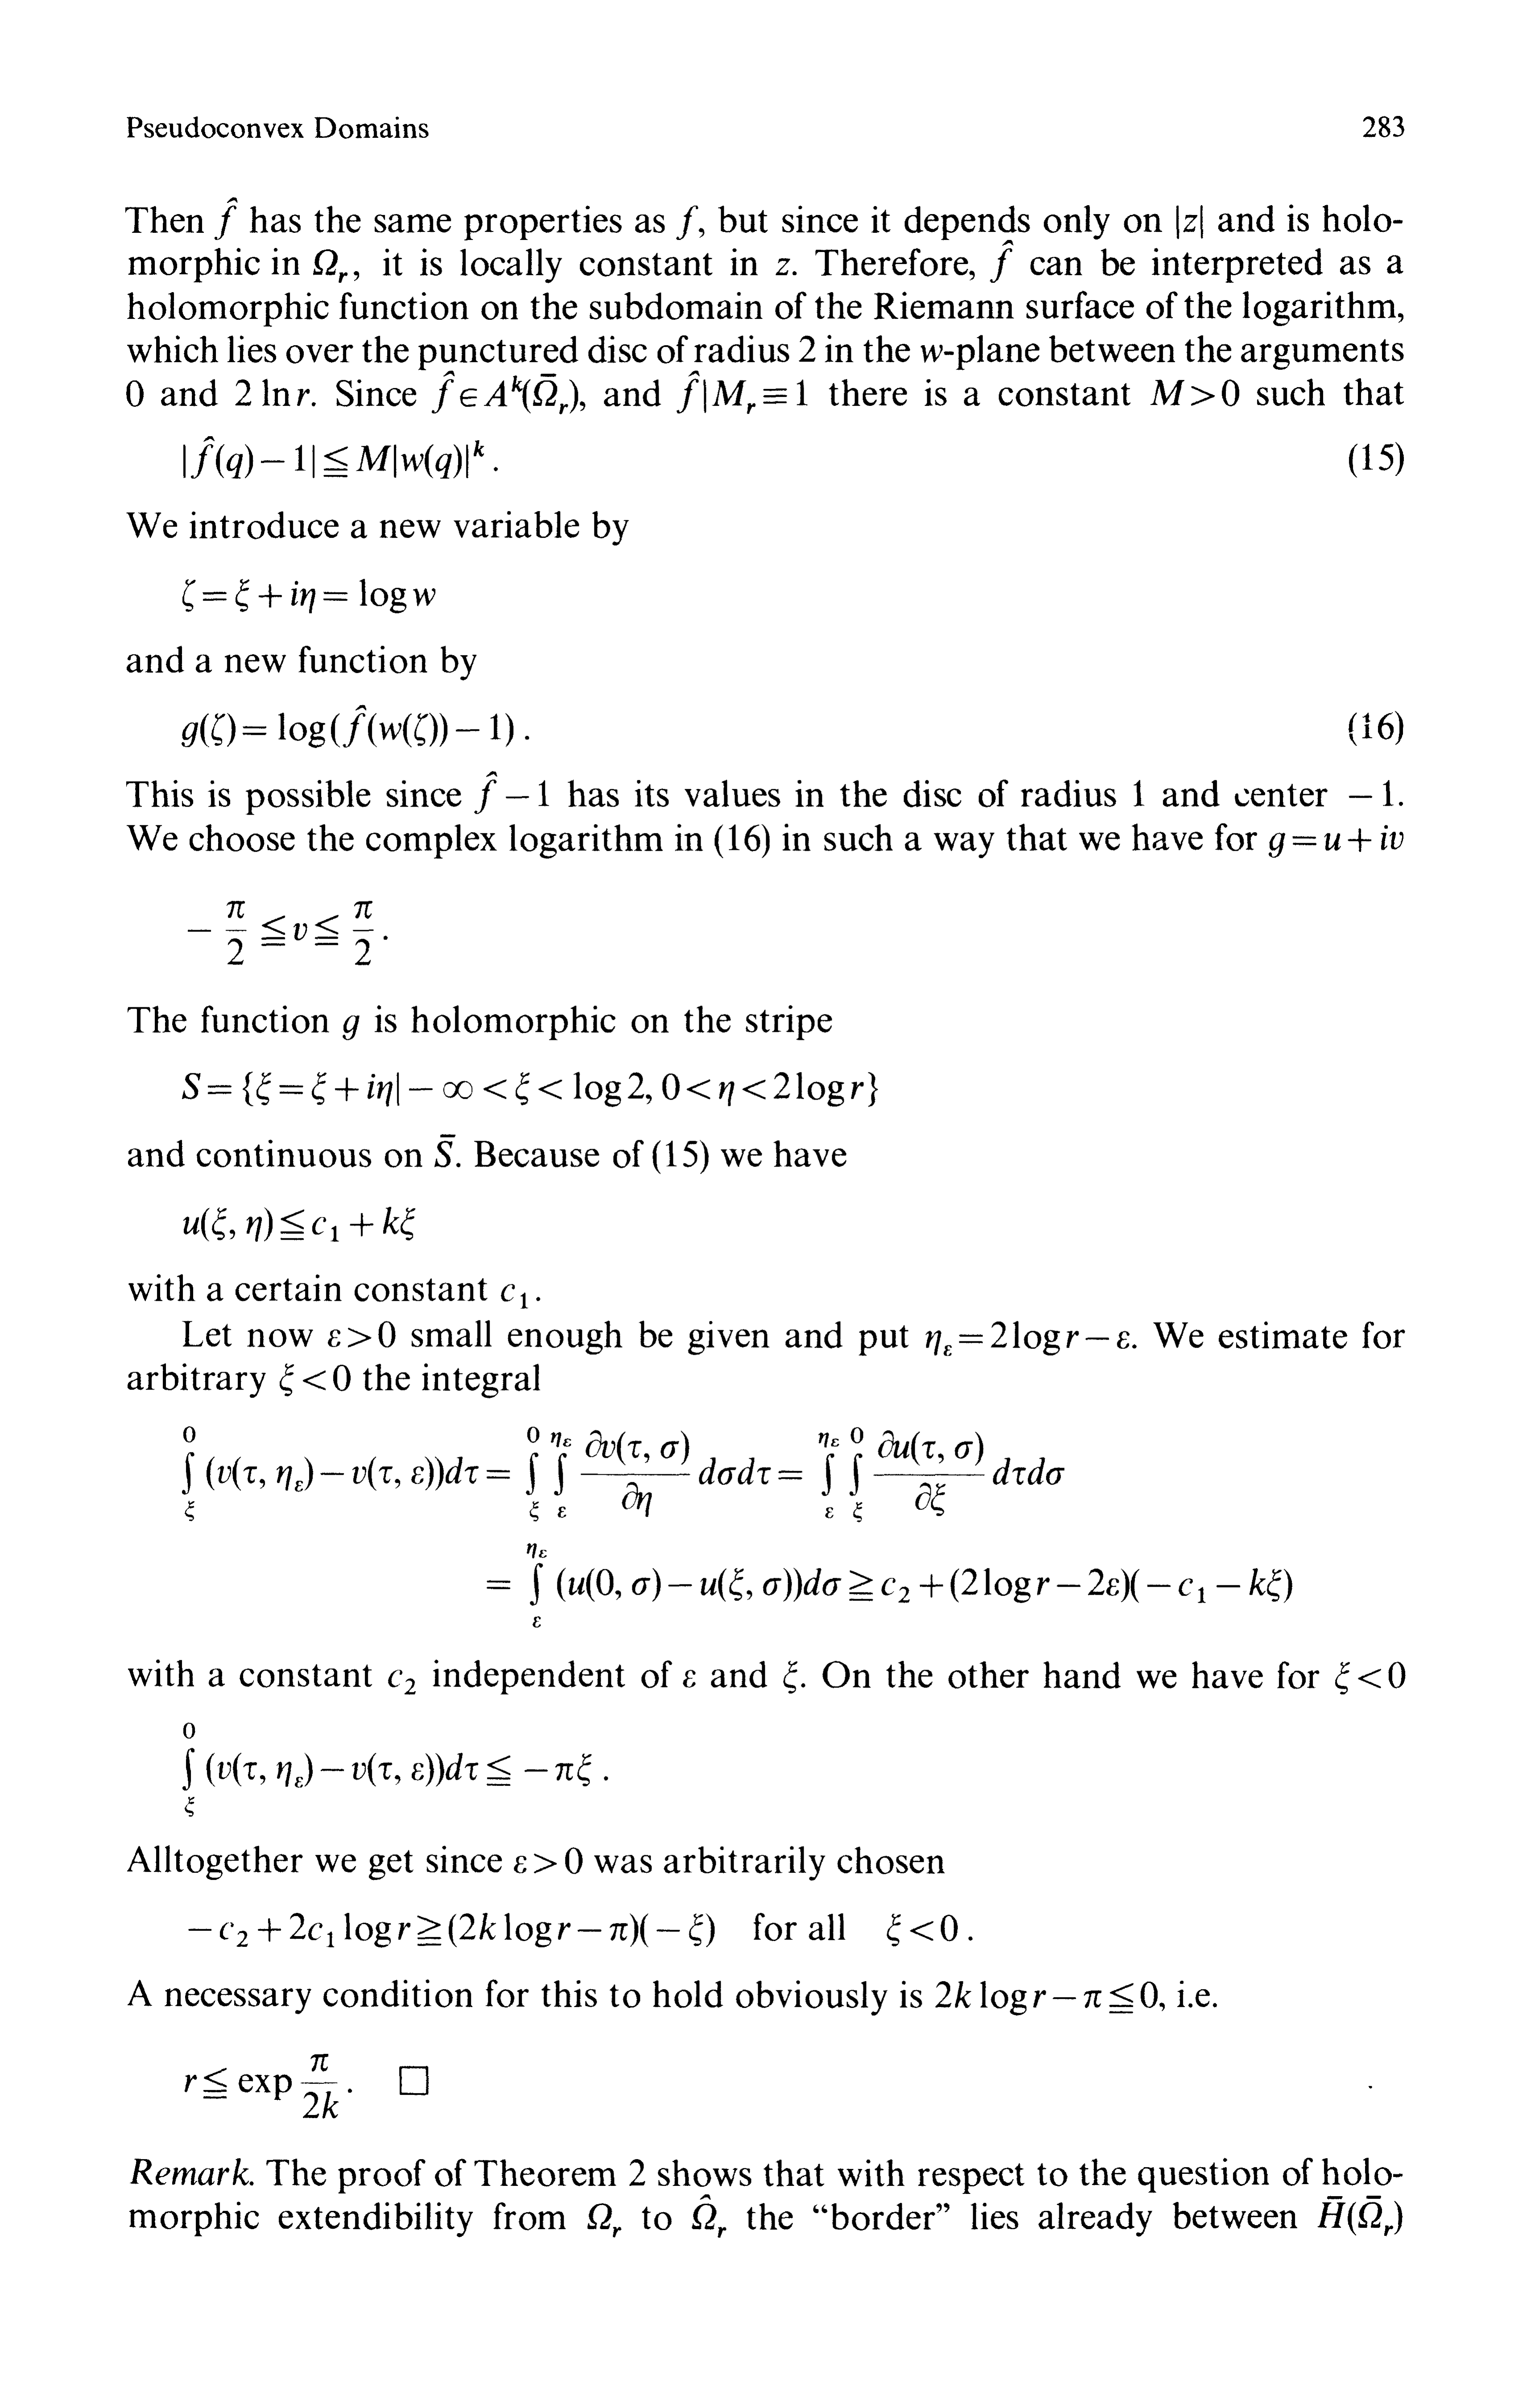maths: (183, 1427, 1064, 1522), (486, 1543, 1292, 1627), (183, 1722, 592, 1817), (183, 1072, 878, 1106), (188, 1913, 715, 1948), (181, 704, 513, 748), (183, 435, 483, 477), (188, 900, 374, 965), (184, 2053, 339, 2118), (183, 579, 435, 613), (183, 1208, 414, 1241), (936, 1982, 1157, 2015), (925, 1322, 1129, 1355), (432, 370, 585, 414), (676, 370, 808, 414), (1269, 825, 1403, 856), (1317, 2196, 1403, 2236), (474, 770, 548, 813), (1150, 379, 1240, 405), (887, 1913, 957, 1946), (279, 1364, 349, 1395), (1334, 1662, 1405, 1694), (235, 379, 316, 405), (328, 1322, 395, 1348), (514, 1848, 581, 1874), (692, 2194, 725, 2238), (1348, 779, 1394, 806), (313, 249, 348, 283), (588, 2203, 622, 2238), (214, 197, 237, 239), (990, 240, 1013, 283), (676, 205, 704, 239), (1176, 205, 1203, 239), (434, 1134, 460, 1167), (500, 1285, 527, 1308), (388, 1671, 414, 1694), (783, 1660, 797, 1694), (126, 381, 144, 405), (799, 335, 815, 362), (922, 344, 943, 362), (342, 1016, 358, 1039), (1134, 779, 1145, 806), (776, 258, 790, 276), (683, 1671, 695, 1687)
